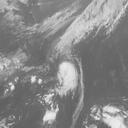cyclone: (56, 62, 78, 98)
